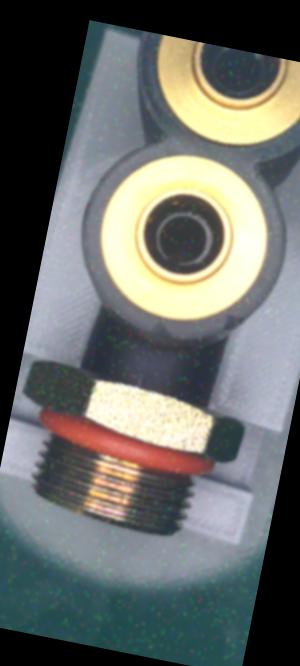bump: (138, 314, 181, 348), (216, 307, 252, 341)
joint line: (145, 346, 159, 367)
white mark: (130, 369, 147, 393)
